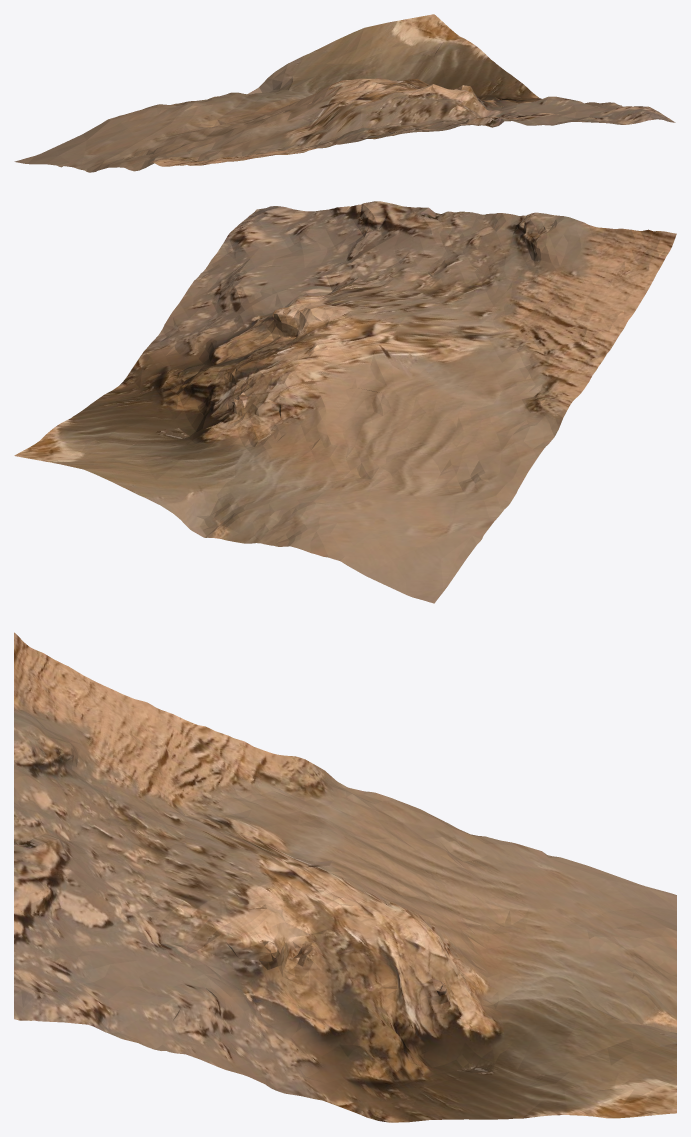
3 views of the same model, one above another, from view 1: azimuth 30°, elevation 25°; view 2: azimuth 150°, elevation 25°; view 3: azimuth 270°, elevation 25° (orthographic). The views are drawn at different scales.
Size of the model in its own units: 1.04 by 0.4569 by 1.04.
Materials: 2 (2 with a texture image).
